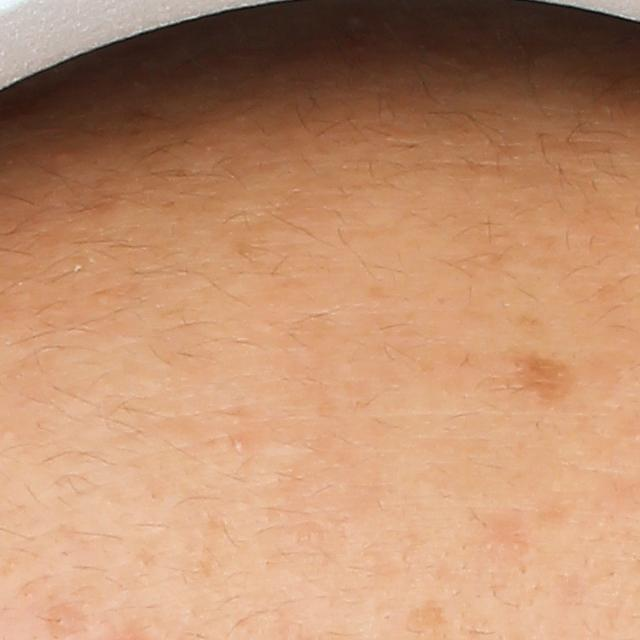comedo: (231, 435, 248, 453)
